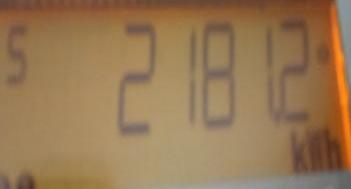.: (282, 126, 348, 180)
2: (187, 24, 203, 126), (262, 24, 278, 123)
3: (105, 22, 163, 131), (275, 18, 314, 125)
9: (199, 21, 243, 127)
